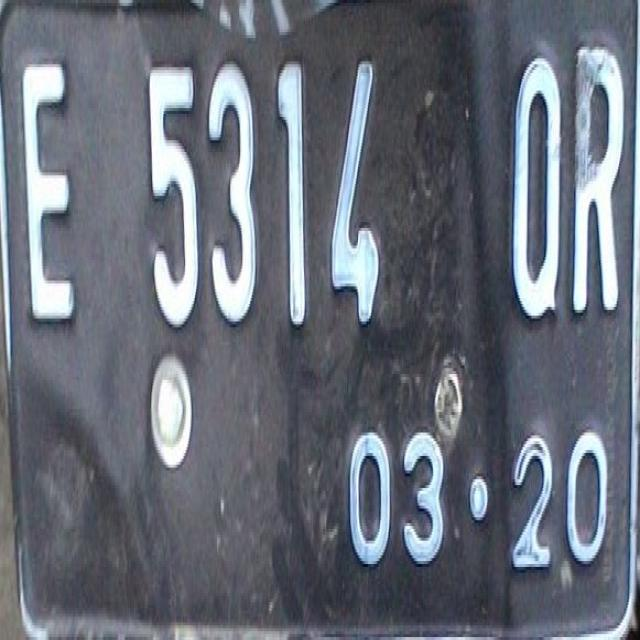plate: (1, 0, 637, 637)
